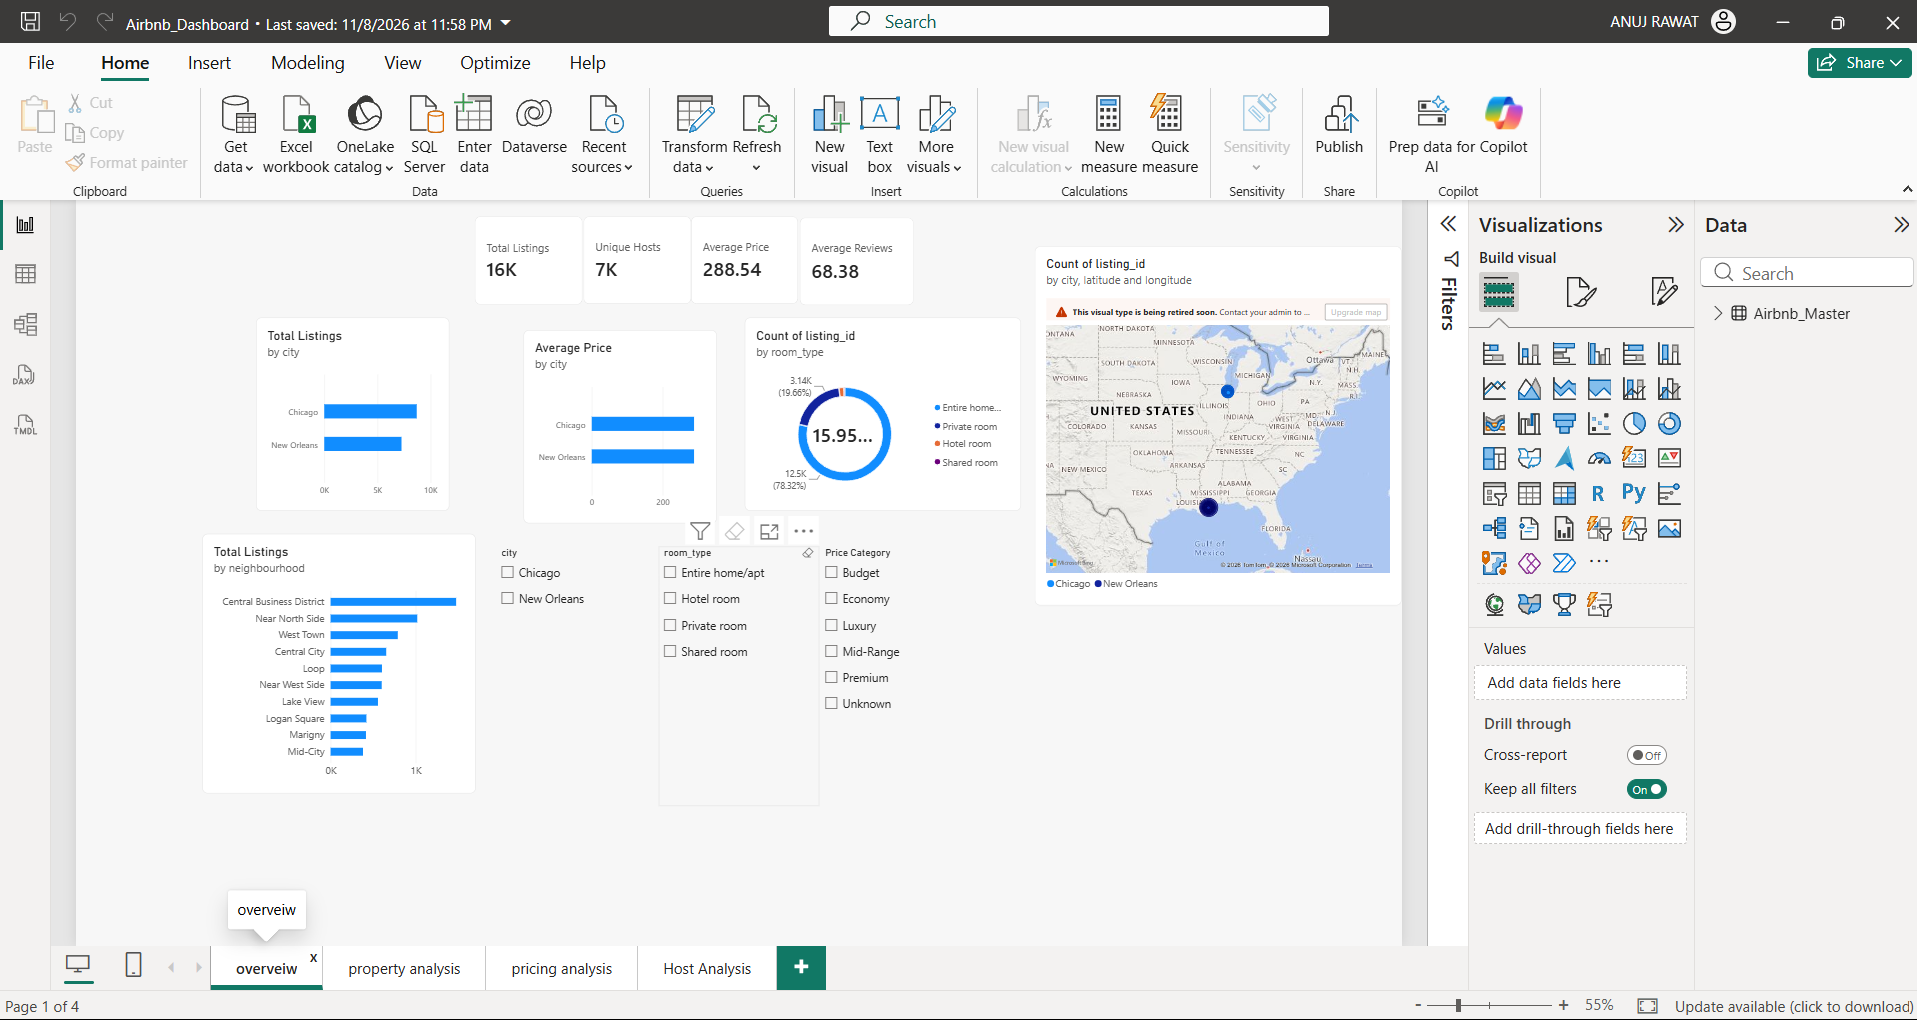

What the dashboard file says about the page in this screenshot:
{"tool":"powerbi","page":{"name":"overveiw","canvas":[1920,1080],"ordinal":0},"visuals":[{"type":"cardVisual","fields":{"Data":["Airbnb_Master.Total Listings"]},"box":[578,24,156,128],"z":0},{"type":"cardVisual","fields":{"Data":["Airbnb_Master.Unique Hosts"]},"box":[734,24,156.2,127.5],"z":1000},{"type":"cardVisual","title":"Average Nightly Price (USD)","fields":{"Data":["Avg(Airbnb_Master.Average Price)"]},"box":[890,24.3,155.7,127.1],"z":2000},{"type":"cardVisual","fields":{"Data":["Avg(Airbnb_Master.Average Reviews)"]},"box":[1047.5,25,165,127.5],"z":3000},{"type":"clusteredBarChart","fields":{"Category":["Airbnb_Master.city"],"Y":["Airbnb_Master.Total Listings"]},"box":[260,170,280,280],"z":4000},{"type":"clusteredBarChart","fields":{"Category":["Airbnb_Master.city"],"Y":["Avg(Airbnb_Master.Average Price)"]},"box":[647.5,187.5,280,280],"z":5000},{"type":"donutChart","fields":{"Category":["Airbnb_Master.room_type"],"Y":["CountNonNull(Airbnb_Master.listing_id)"]},"box":[967.5,170,400,280],"z":6000},{"type":"map","fields":{"Series":["Airbnb_Master.city"],"Size":["CountNonNull(Airbnb_Master.listing_id)"],"X":["Airbnb_Master.longitude"],"Y":["Airbnb_Master.latitude"]},"box":[1387.5,67.5,531.4,520],"z":7000},{"type":"clusteredBarChart","fields":{"Category":["Airbnb_Master.neighbourhood"],"Y":["Airbnb_Master.Total Listings"]},"box":[182,484,395.7,375.7],"z":8000},{"type":"slicer","fields":{"Values":["Airbnb_Master.city"]},"box":[608,502,236,376],"z":9000},{"type":"slicer","fields":{"Values":["Airbnb_Master.room_type"]},"box":[844,502,232.5,375],"z":10000},{"type":"slicer","fields":{"Values":["Airbnb_Master.Price Category"]},"box":[1076,502,252.5,280],"z":11000}]}

Visuals, with their boxes on the page's 1920x1080 design canvas (x1, y1, x2, y2). These are canvas units, not pixel positions in the 1917x1020 screenshot, which may show the page scaled, cropped or inside an application window:
cardVisual - Airbnb_Master.Total Listings: [578, 24, 734, 152]
cardVisual - Airbnb_Master.Unique Hosts: [734, 24, 890, 152]
"Average Nightly Price (USD)" cardVisual: [890, 24, 1046, 151]
cardVisual - Avg(Airbnb_Master.Average Reviews): [1048, 25, 1212, 152]
clusteredBarChart - Airbnb_Master.city x Airbnb_Master.Total Listings: [260, 170, 540, 450]
clusteredBarChart - Airbnb_Master.city x Avg(Airbnb_Master.Average Price): [648, 188, 928, 468]
donutChart - Airbnb_Master.room_type x CountNonNull(Airbnb_Master.listing_id): [968, 170, 1368, 450]
map - Airbnb_Master.city x CountNonNull(Airbnb_Master.listing_id): [1388, 68, 1919, 588]
clusteredBarChart - Airbnb_Master.neighbourhood x Airbnb_Master.Total Listings: [182, 484, 578, 860]
slicer - Airbnb_Master.city: [608, 502, 844, 878]
slicer - Airbnb_Master.room_type: [844, 502, 1076, 877]
slicer - Airbnb_Master.Price Category: [1076, 502, 1328, 782]
